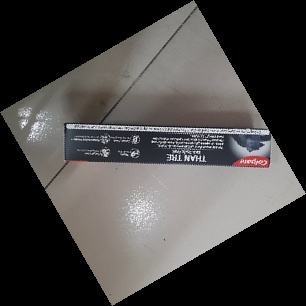Colgate Than: (60, 121, 273, 170)
